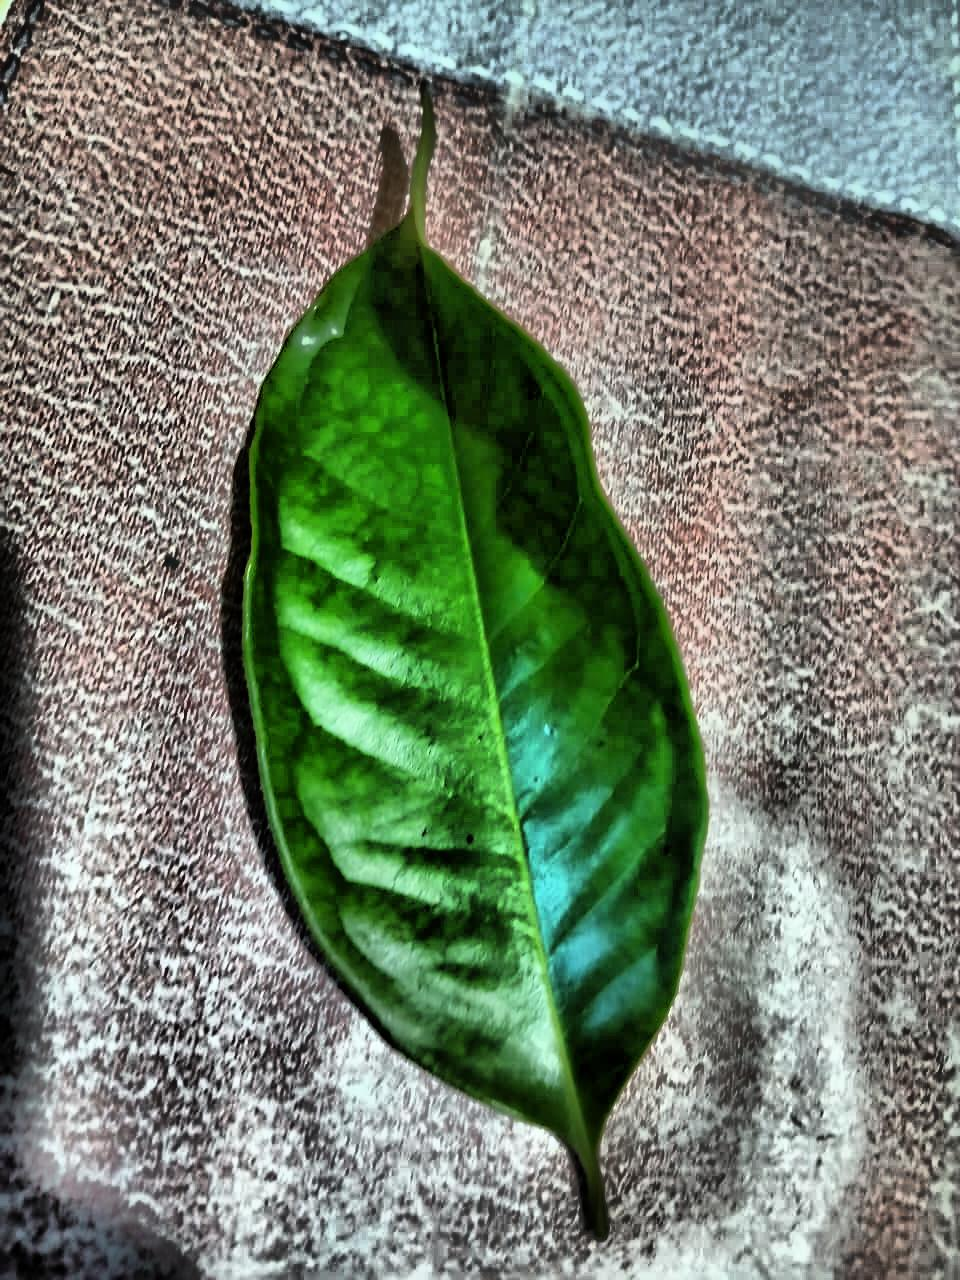daun salam: (243, 93, 706, 1234)
